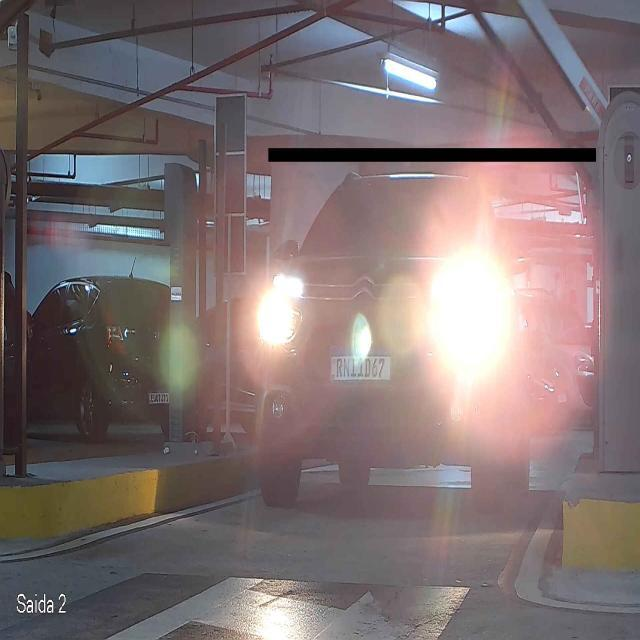mercosul_plate: (329, 348, 393, 382)
